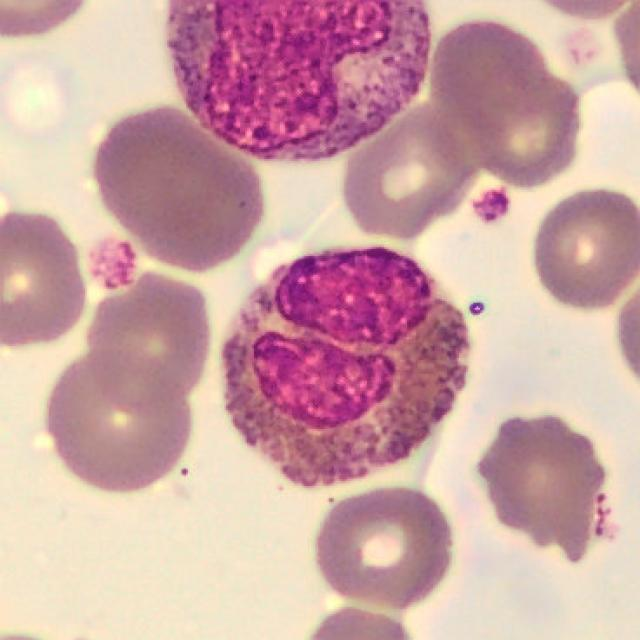Eosinofilo: (215, 243, 470, 485)
